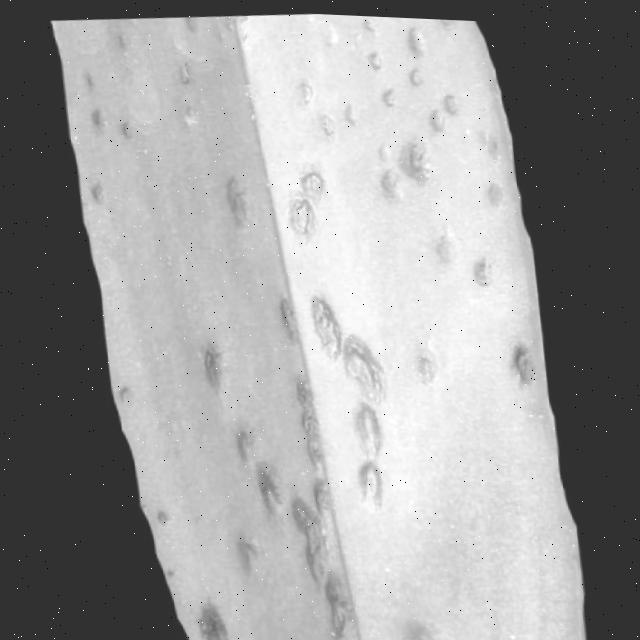mite: (399, 134, 431, 178), (282, 192, 315, 233), (296, 164, 325, 196), (373, 163, 401, 196), (466, 250, 491, 281), (481, 175, 503, 203)
spots: (41, 11, 587, 640)
